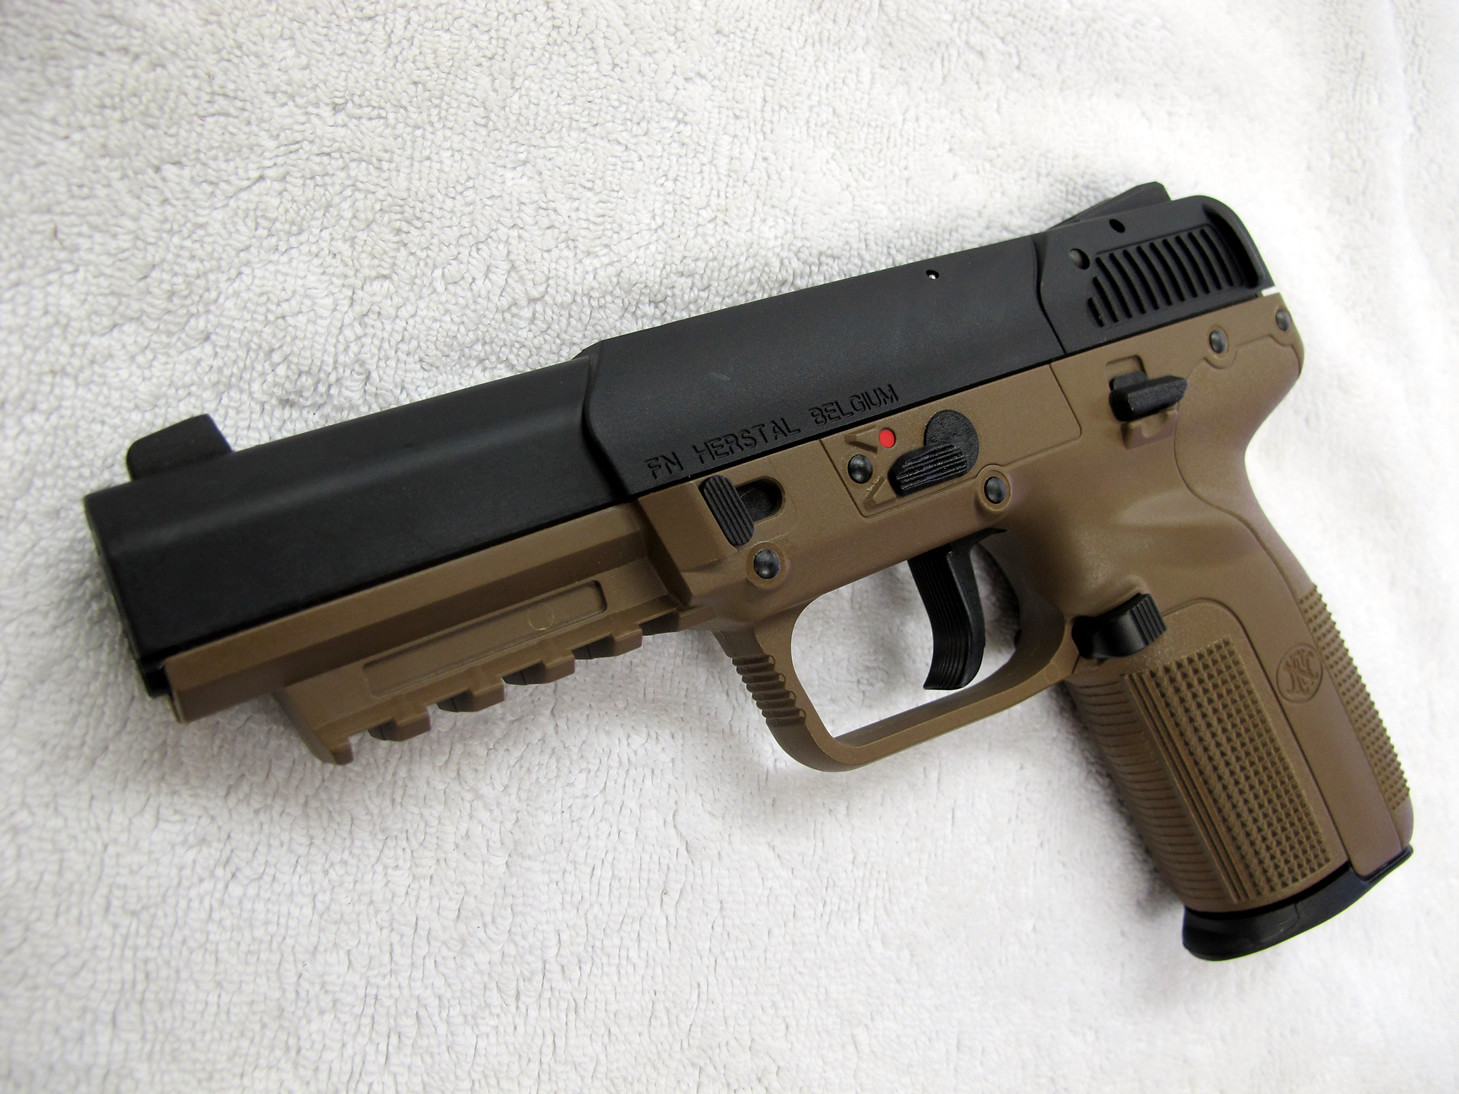gun: (76, 167, 1431, 1016)
